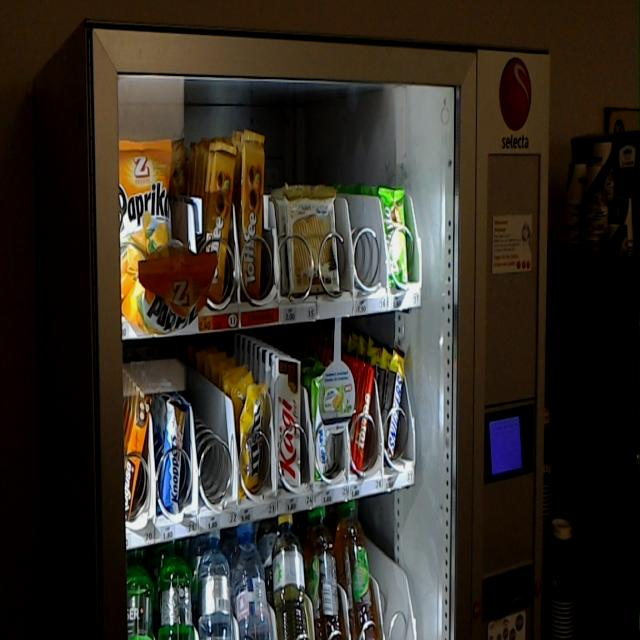balisto_muesli__37g__5000159418546: (378, 185, 408, 293)
berger_mailaenderli____7610404550006: (282, 183, 340, 294)
darwida_sandwich____7610032065170: (311, 374, 346, 483)
kagi___50__7610046000259: (272, 357, 302, 490)
knoppers_riegel____4035800488808: (158, 396, 188, 516)
mnms_gelb__45__40111445: (238, 382, 266, 498)
ragusa___50__76401121: (122, 391, 150, 521)
snickers___50__5000159461122: (380, 348, 406, 465)
toffifee___33__4014400924275: (202, 137, 234, 306), (237, 125, 266, 299)
torino___46__76415272: (350, 360, 375, 479)
valser_vivabirne__50__7610335001530: (269, 510, 310, 639)
volvic_teeminze__50__3057640335648: (332, 499, 378, 639), (302, 503, 343, 637)
zweifel_paprika__90__7610095013002: (116, 137, 172, 290)
